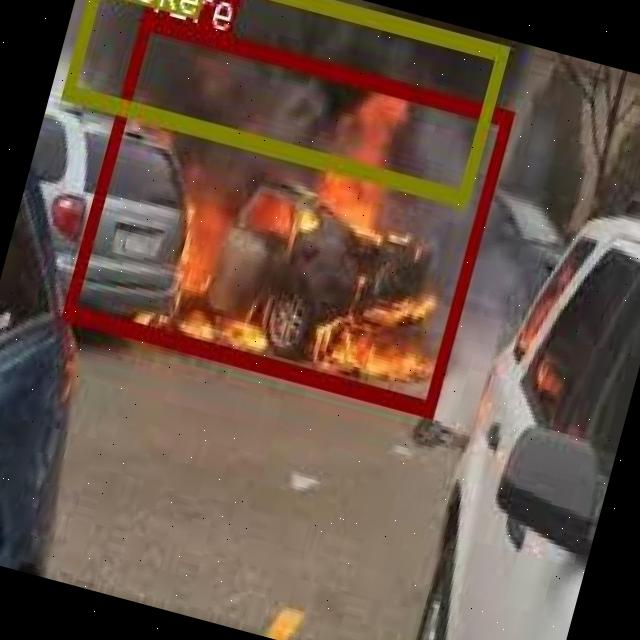fire: (61, 11, 513, 415)
smoke: (59, 0, 505, 203)
